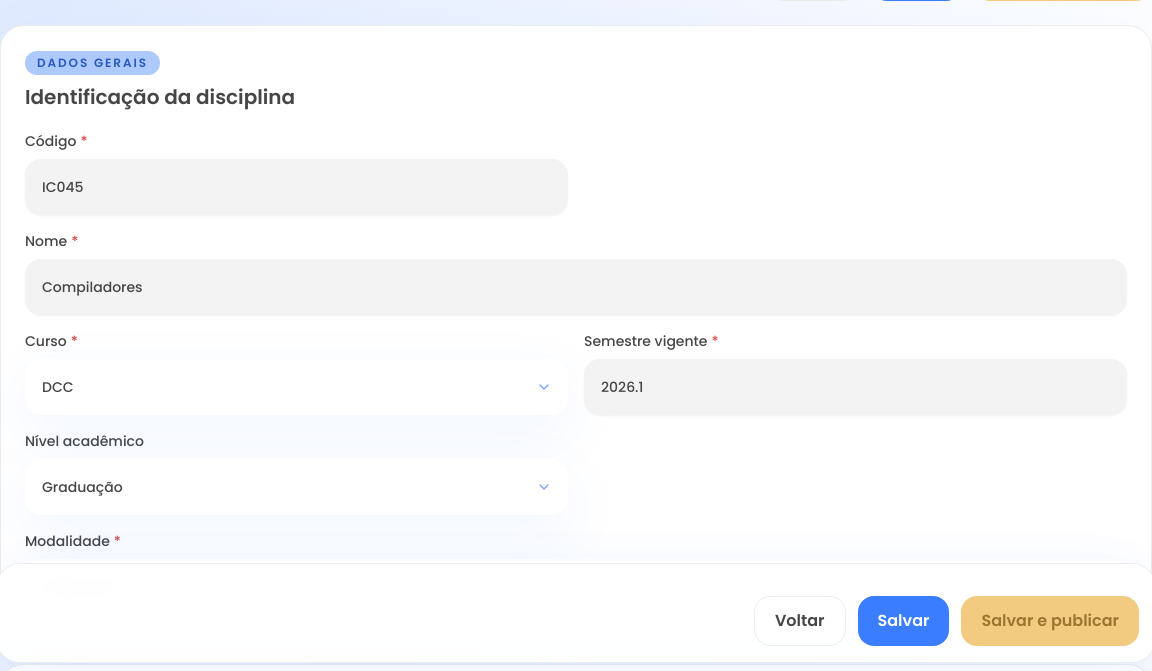
Scenario: DisciplineEditorForm publish validation › deve bloquear o salvamento comum quando uma referência básica não web estiver sem ano
What coordinates should you click on to do the following:
click the 2nd button "Salvar"
I would click on:
 (903, 621)
Its box is 858,596 -> 949,646.
(page scrolled)
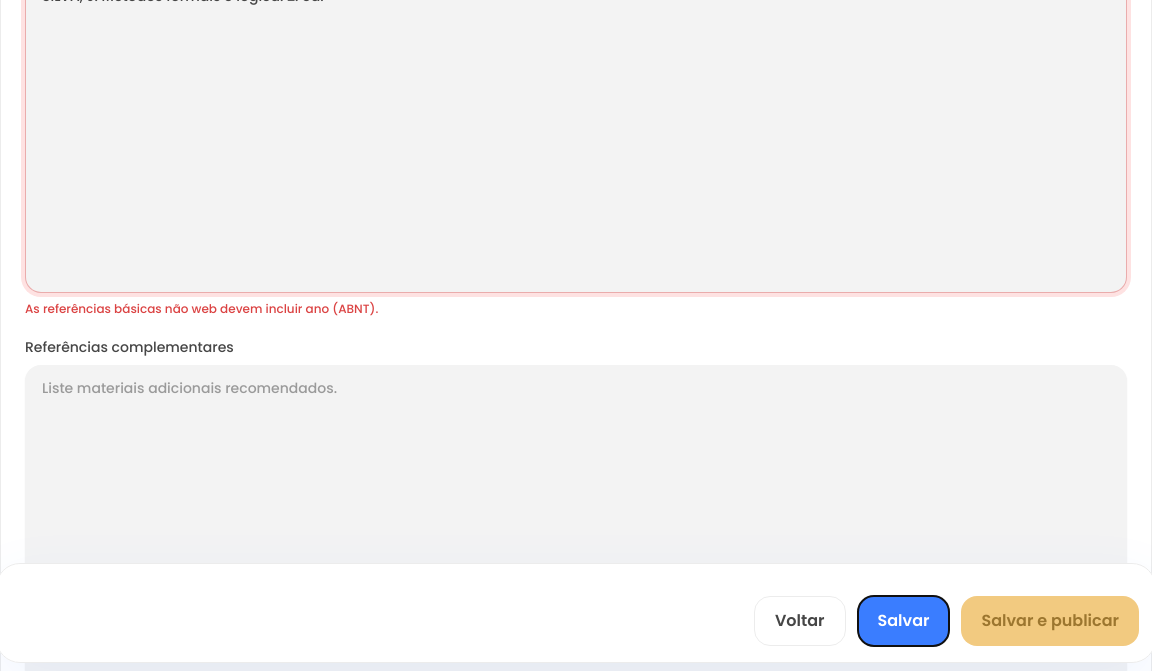
Expected: the text "As referências básicas não web devem incluir ano (ABNT)." is shown, 25,300 -> 378,317
